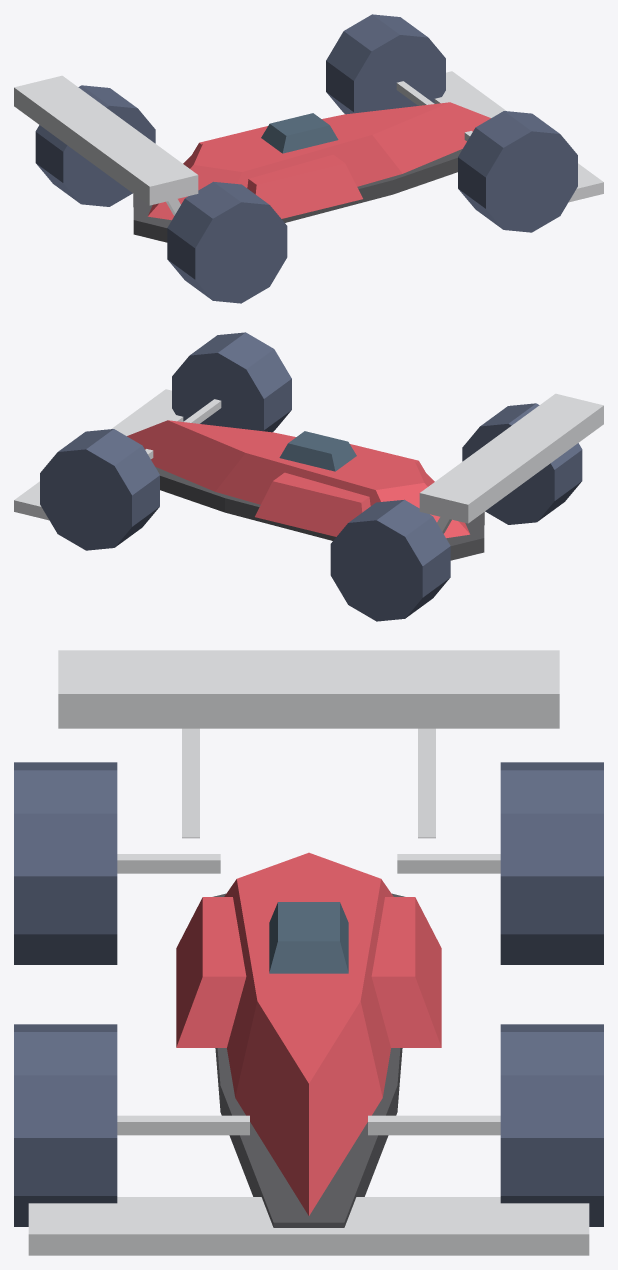
The model's file is car_openwheel.glb.
3 renders of one model, top to bottom at view 1: azimuth 30°, elevation 25°; view 2: azimuth 150°, elevation 25°; view 3: azimuth 270°, elevation 25°, orthographic. The views are drawn at different scales.
Bounding box in the file's own units: 0.3225 × 0.088 × 0.2.
